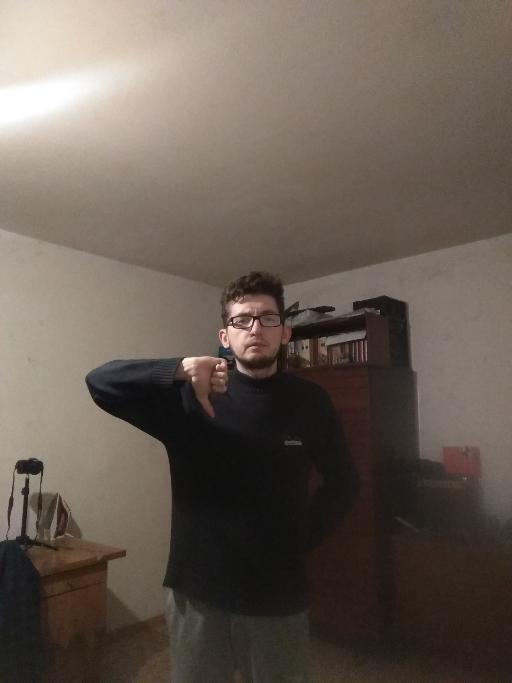dislike: (185, 353, 229, 420)
